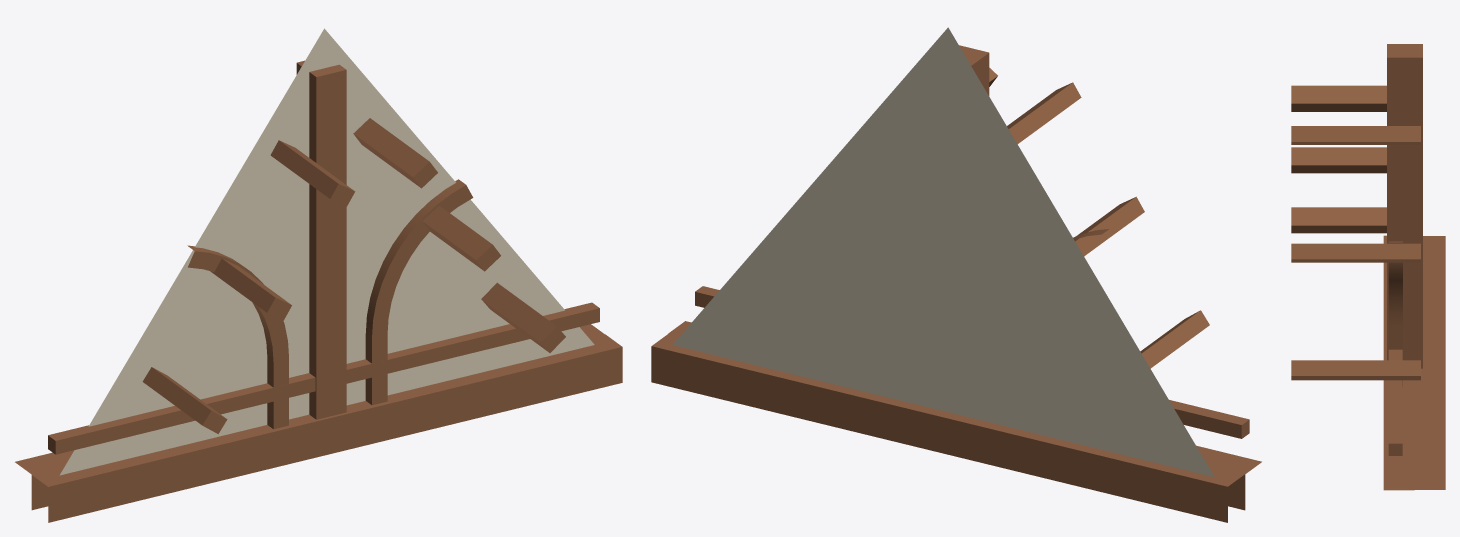
The model's file is Roof_Front_Brick4.glb.
3 views of the same model, side by side, from view 1: azimuth 30°, elevation 25°; view 2: azimuth 150°, elevation 25°; view 3: azimuth 270°, elevation 25° (orthographic). The views are drawn at different scales.
Visible parts, largest first — view 1: Roof_Front_Brick4; view 2: Roof_Front_Brick4; view 3: Roof_Front_Brick4.
Boxes of the visible parts, x1,y1,x2,y2 form: Roof_Front_Brick4: (15,28,622,522); Roof_Front_Brick4: (651,27,1261,522); Roof_Front_Brick4: (1291,44,1445,490).
Size of the model in its own units: 4.4 by 3.07 by 1.13.
